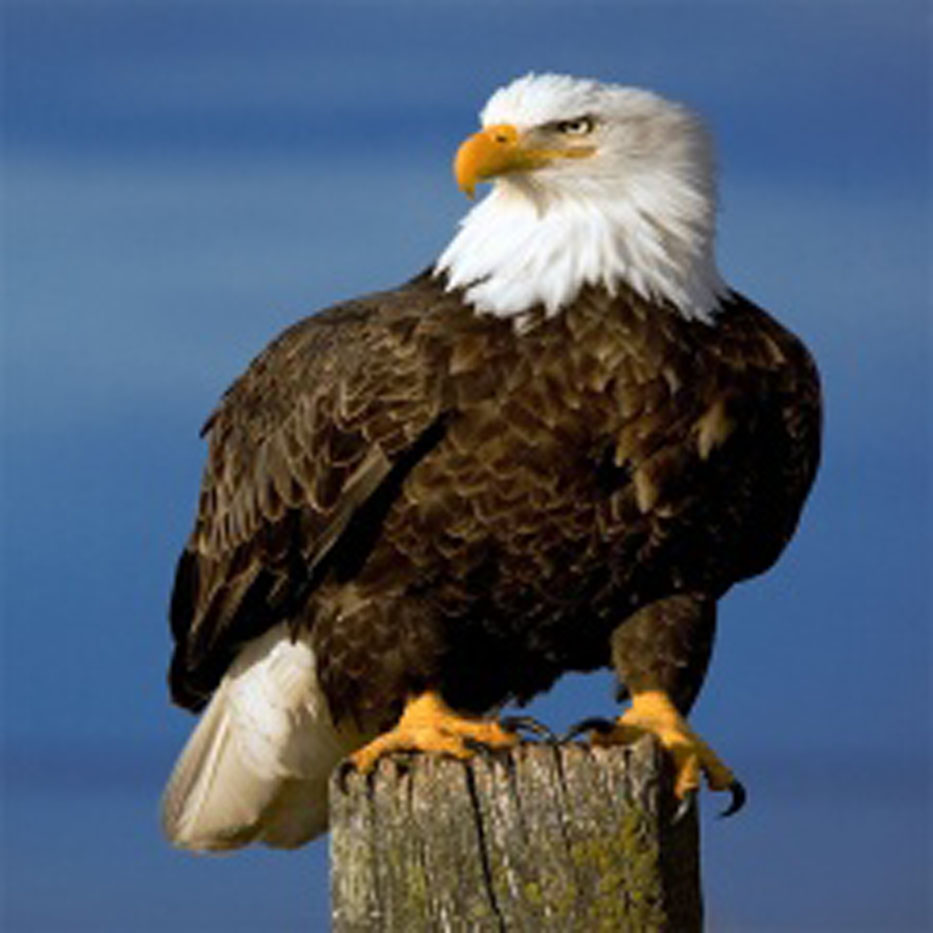Pengoyak Daging: (436, 129, 534, 209)
